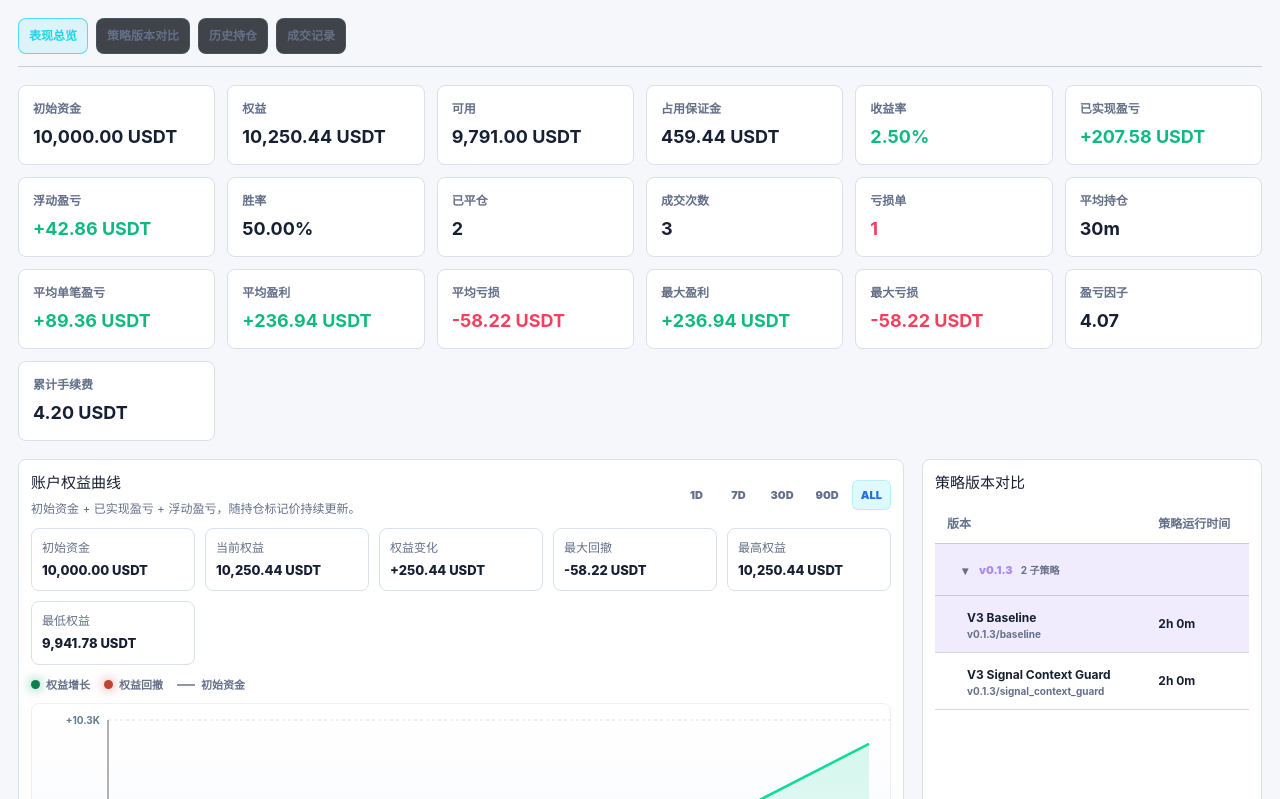
Test: App › groups research variants under their parent strategy version
What coordinates should you click on to do the following:
click the button "策略版本对比"
I would click on:
 (143, 36)
Its box is [96, 18, 190, 54].
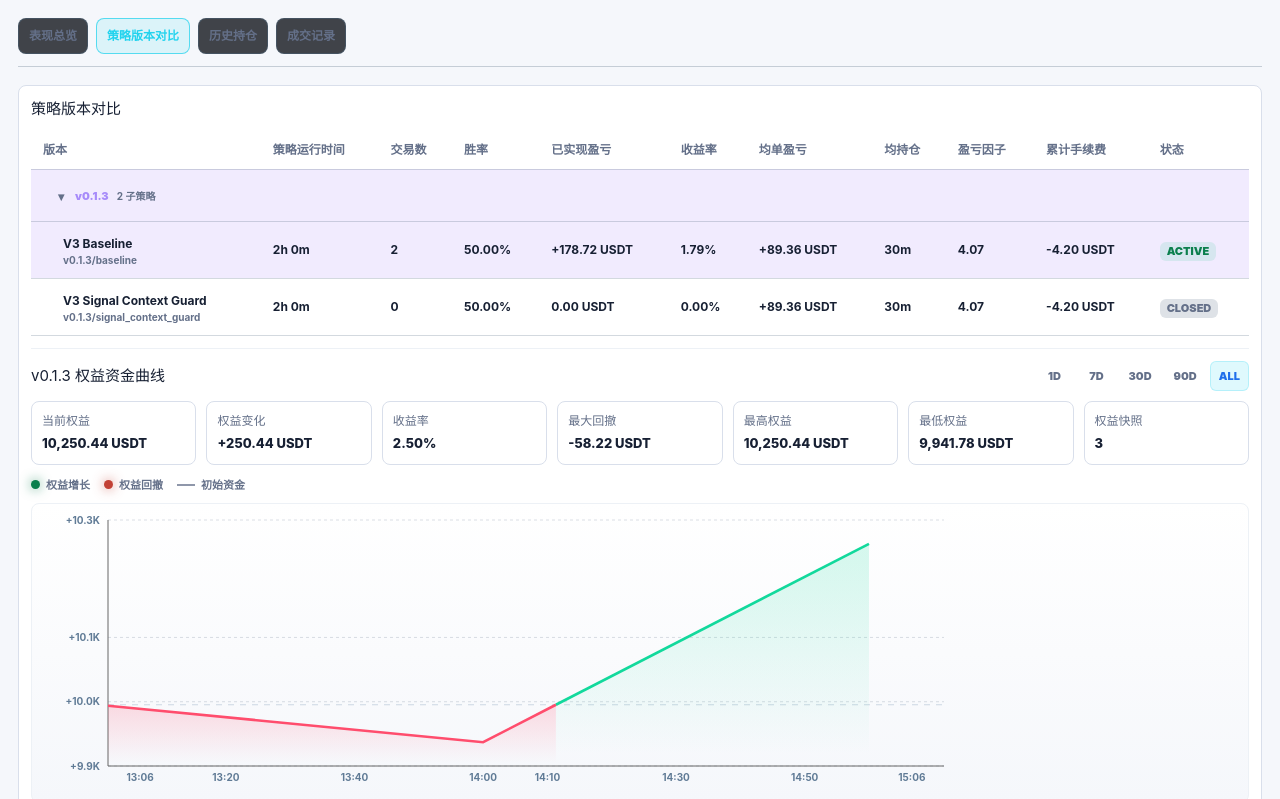
Expected: the element with test id "paper-strategy-stats" shows "V3 Baseline", [63, 236, 132, 250]
Expected: the element with test id "paper-strategy-stats" shows "V3 Signal Context Guard", [63, 292, 207, 308]
What coordinates should you click on to do the following:
click the button with aria-label "v0.1.3 子策略"
I would click on:
 (105, 195)
Its box is [43, 176, 167, 214].
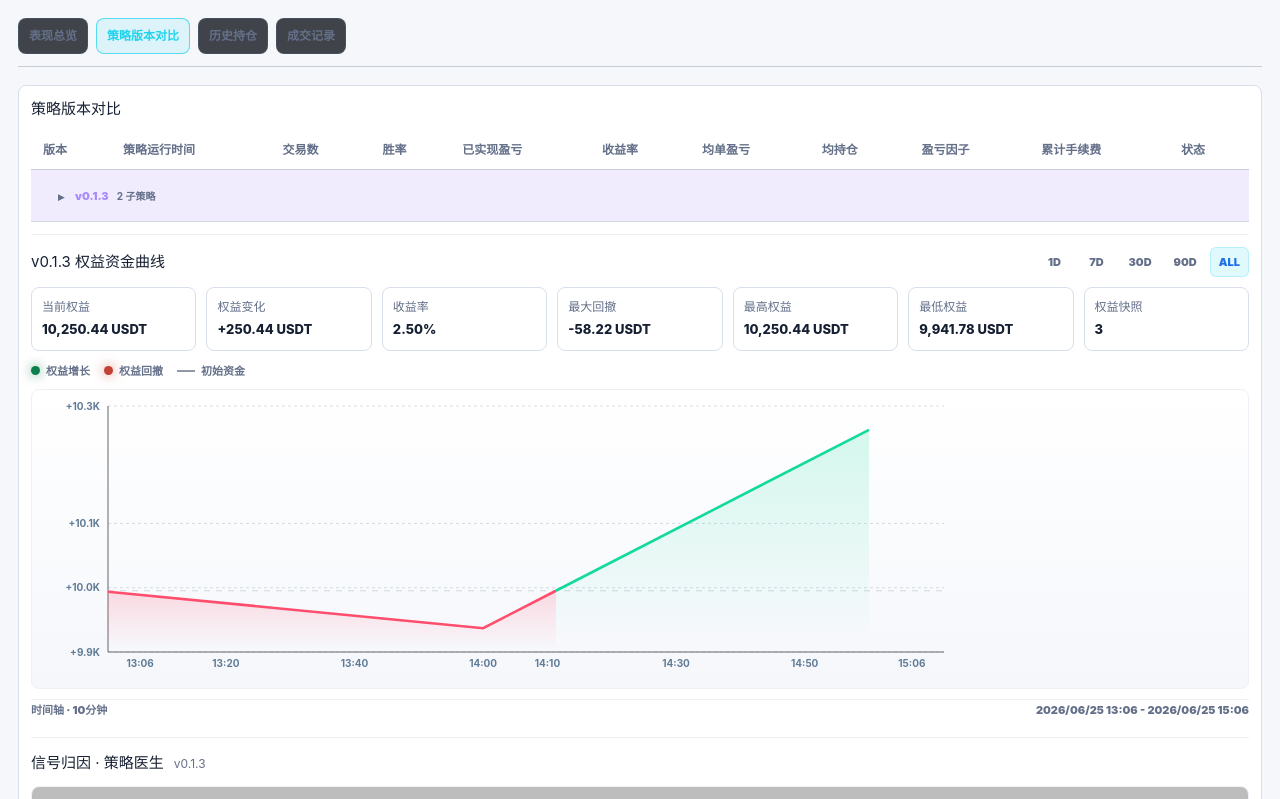
Expected: the element with test id "paper-strategy-stats" no longer shows "V3 Baseline", [31, 130, 1249, 222]
Expected: the element with test id "paper-strategy-stats" no longer shows "V3 Signal Context Guard", [31, 130, 1249, 222]
